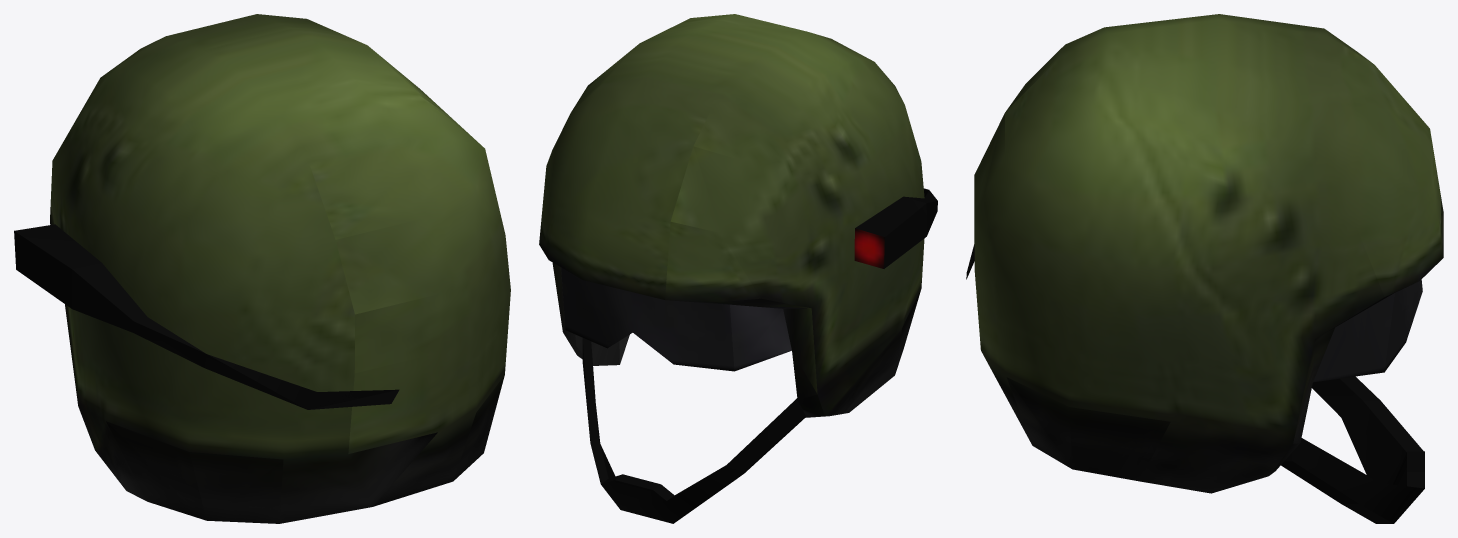
File: armor_male_combatarmorhelmet.obj
The picture shows the model from 3 angles, left to right: view 1: azimuth 30°, elevation 25°; view 2: azimuth 150°, elevation 25°; view 3: azimuth 270°, elevation 25°; orthographic projection. The views are drawn at different scales.
Parts seen in each view (by area): view 1: Object03; view 2: Object03; view 3: Object03.
Boxes of the visible parts, x1,y1,x2,y2 form: Object03: (14, 14, 510, 523); Object03: (539, 14, 937, 523); Object03: (966, 14, 1443, 523).
Bounding box in the file's own units: 13.62 × 15.41 × 14.16.
